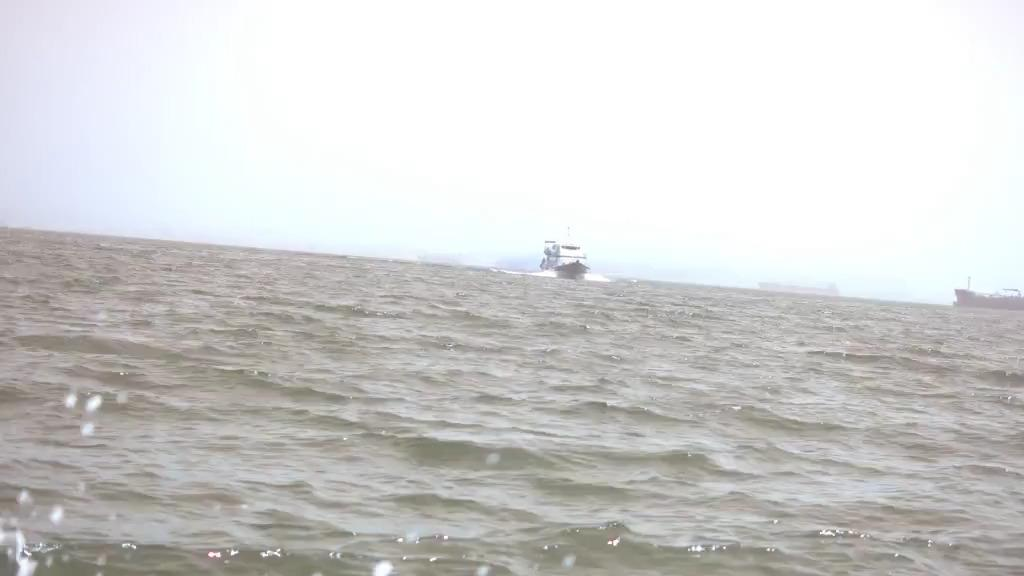PassengerShip: (538, 231, 598, 283)
